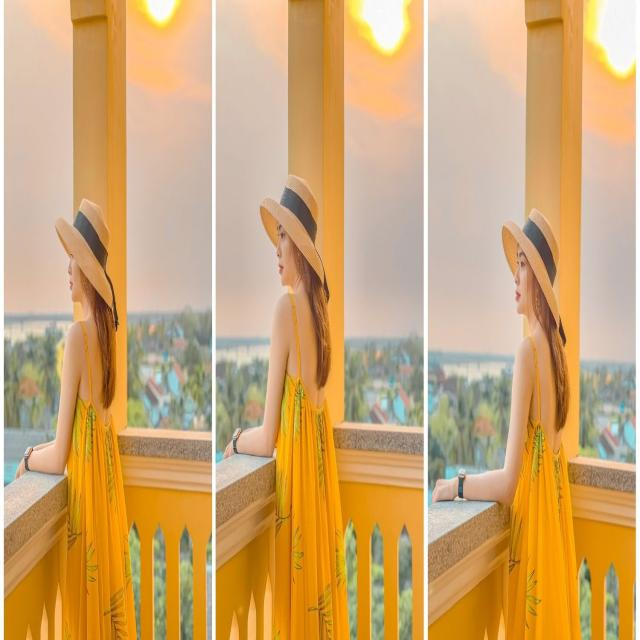clothes: (271, 291, 351, 640), (58, 321, 137, 640), (506, 329, 584, 640)
